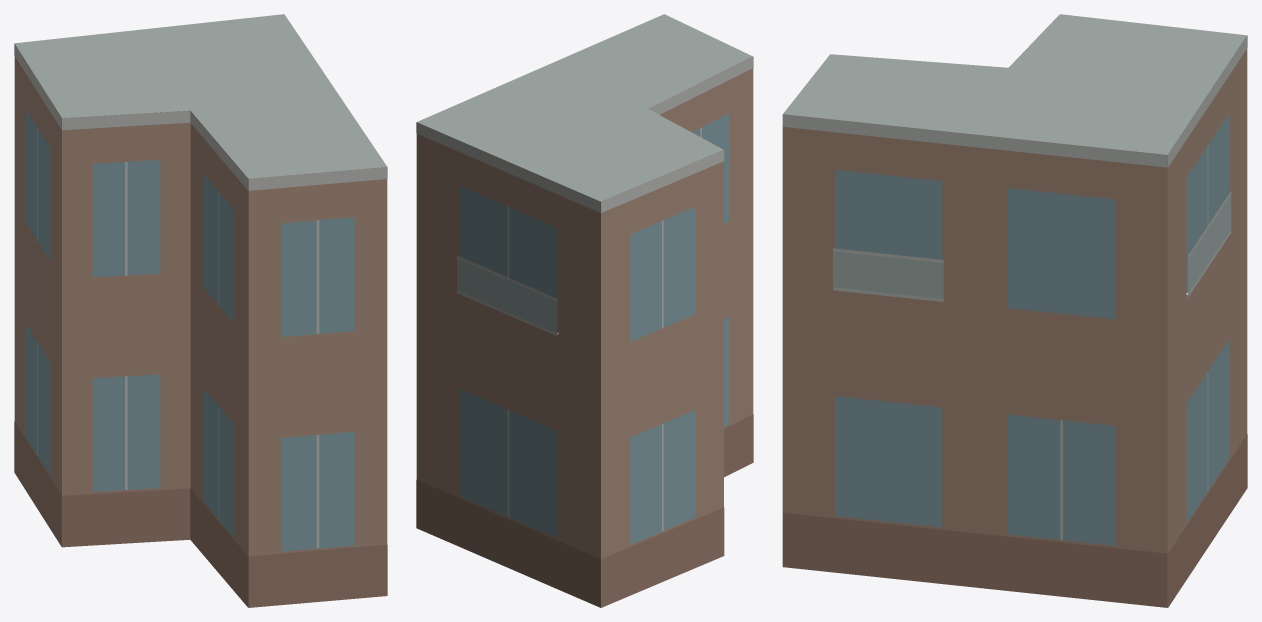
The model's file is survey-upis-32471740.glb.
3 views of the same model, side by side, from view 1: azimuth 30°, elevation 25°; view 2: azimuth 150°, elevation 25°; view 3: azimuth 270°, elevation 25° (orthographic). The views are drawn at different scales.
Parts seen in each view (by area): view 1: survey-upis-32471740.tmp; view 2: survey-upis-32471740.tmp; view 3: survey-upis-32471740.tmp.
Part boxes in pixels (x1,y1,x2,y2): survey-upis-32471740.tmp: (14, 14, 387, 607); survey-upis-32471740.tmp: (416, 14, 753, 607); survey-upis-32471740.tmp: (782, 14, 1247, 607).
Bounding box in the file's own units: 5.82 × 8.7 × 8.1.
